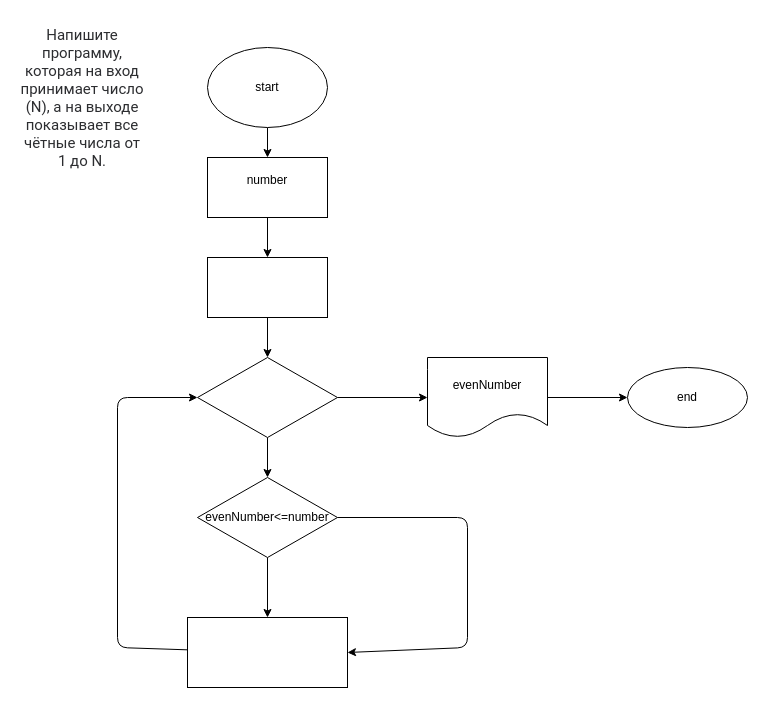
This 765x705 diagram has some shape labels left out. The box of each missing label's shape, as (x1, y1, x2, y2) in pixels:
evenNumber=2: (206, 256, 328, 318)
evenNumber=evenNumber+2: (186, 616, 348, 688)
number>1: (196, 356, 338, 438)
